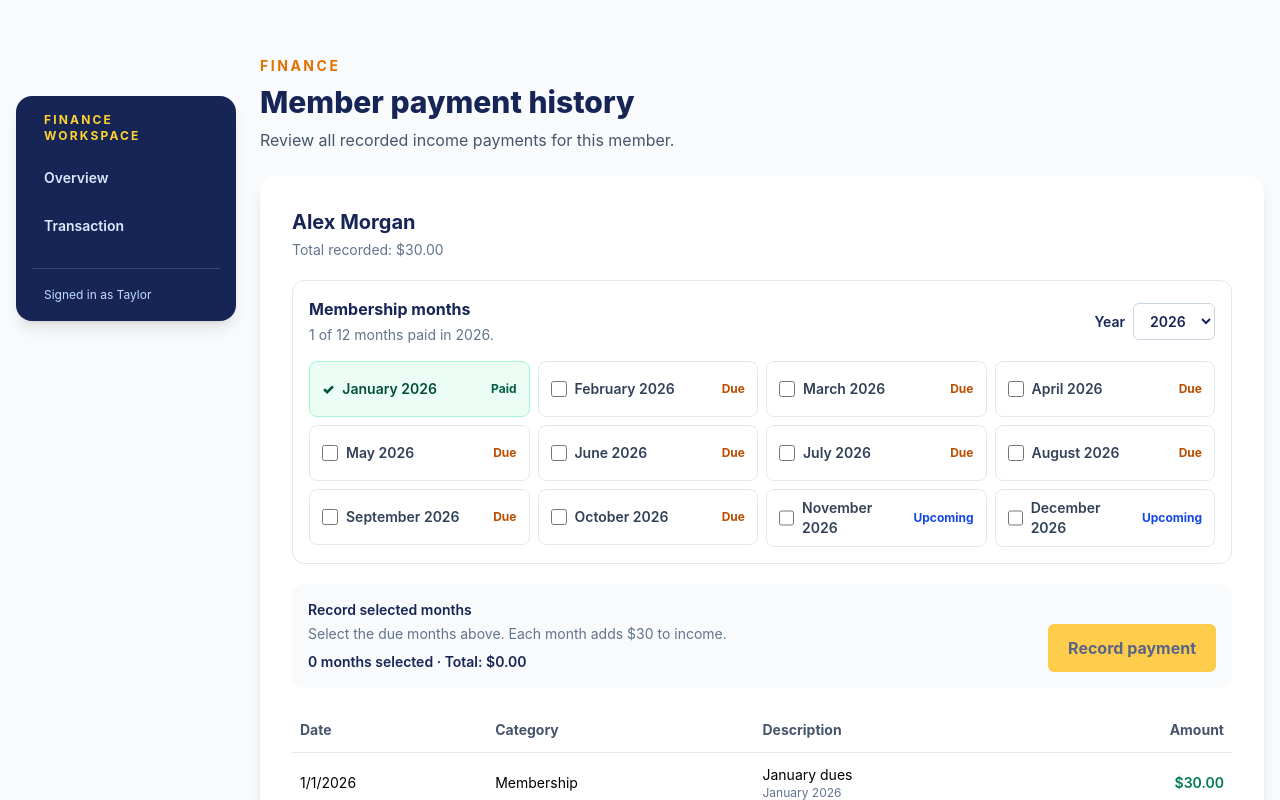
Test: Finance › lets finance record an upcoming month in advance as finance income
Expected: the heading "Alex Morgan" is shown, [292,210,416,234]
Click the checkbox labelled "November 2026 Upcoming": {"x": 787, "y": 518} [779,510,794,526]
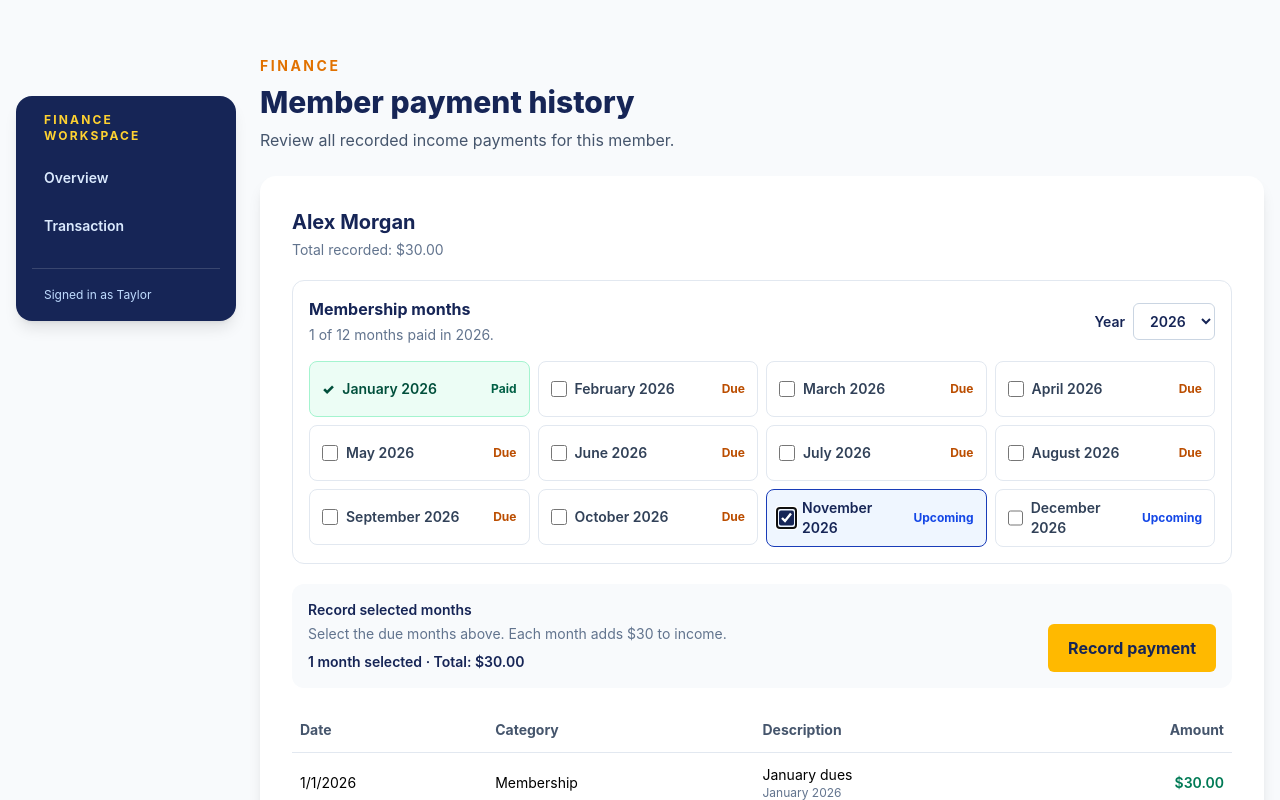
Expected: the text "1 month selected · Total: $30.00" is shown, [308,653,524,670]
Click the button "Record payment": {"x": 1132, "y": 648} [1048,624,1216,672]
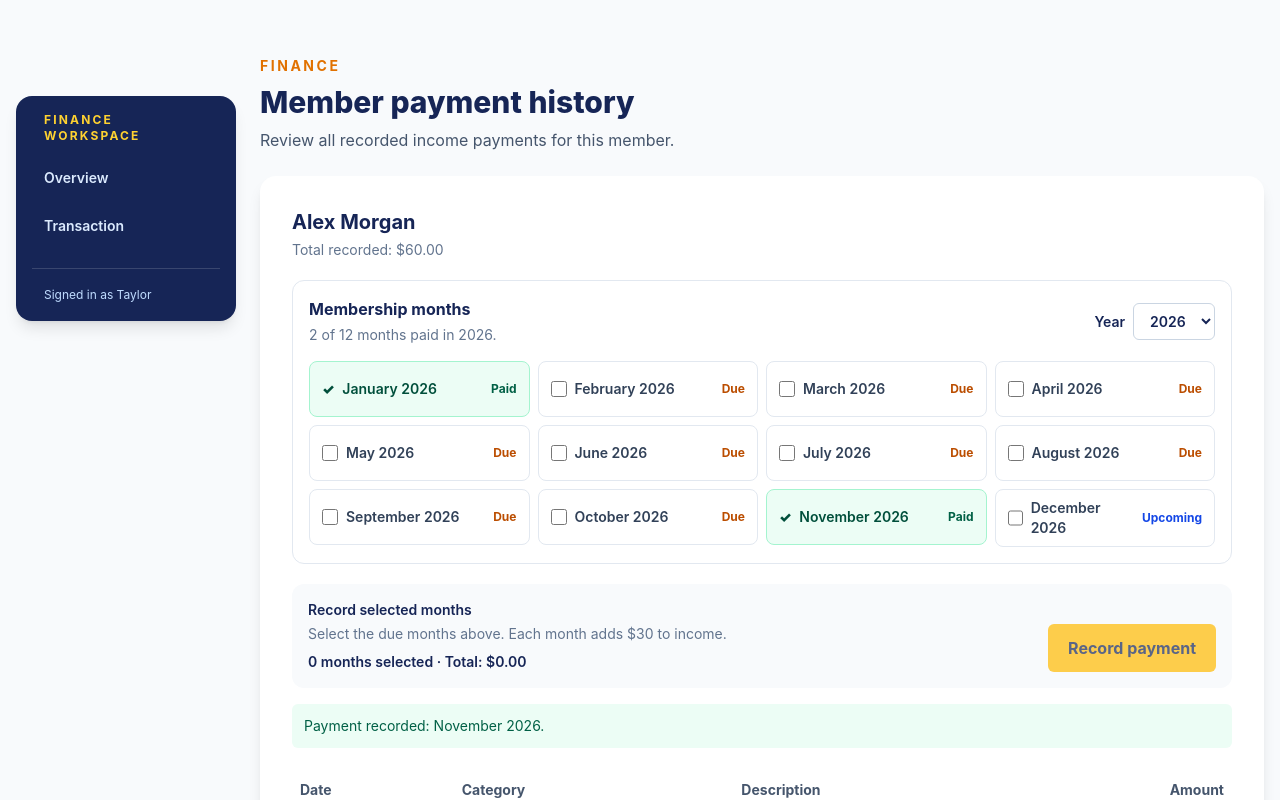
Expected: the text "Total recorded: $60.00" is shown, [292,240,444,260]
